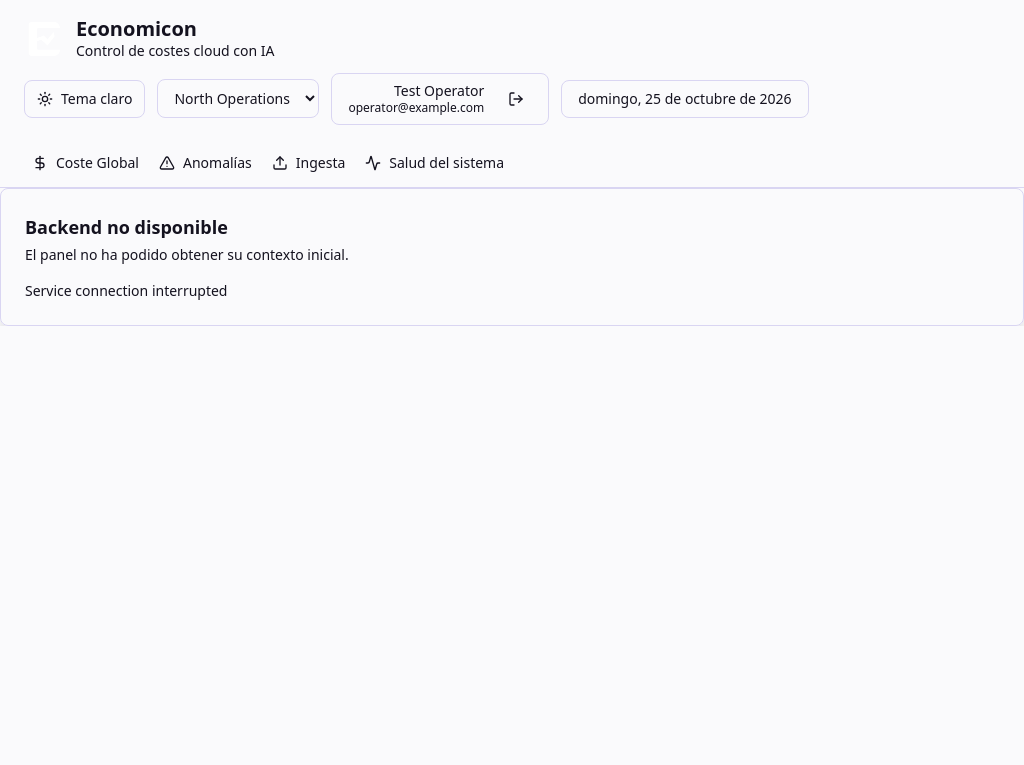
Test: tenant bootstrap and dashboard › surfaces /billing/summary failures and keeps navigation available
Expected: the heading "Backend no disponible" is shown, top-left (25, 214), bottom-right (228, 238)
Expected: the text "Service connection interrupted" is shown, top-left (25, 280), bottom-right (228, 300)
Click the link "Ingesta": (309, 162) top-left (272, 152), bottom-right (345, 172)
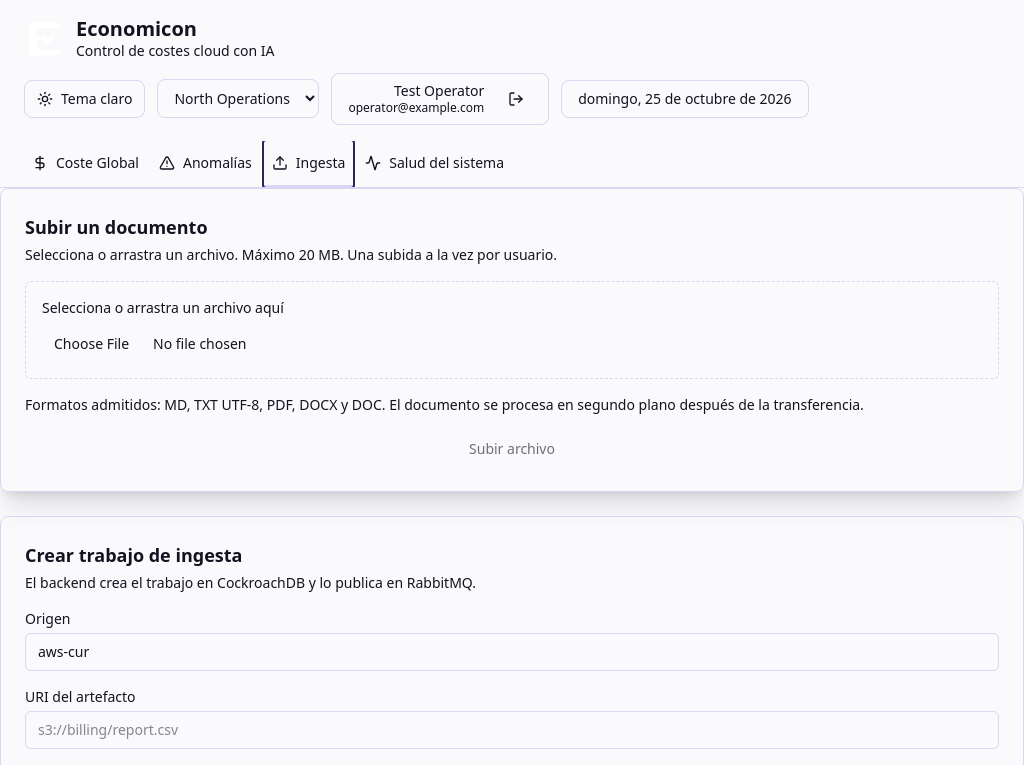
Now the heading "Crear trabajo de ingesta" is shown, box top-left (25, 542), bottom-right (242, 566)
